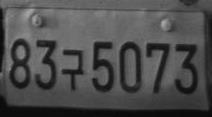0: (118, 40, 142, 94)
3: (174, 43, 199, 95), (34, 39, 57, 90)
5: (91, 40, 115, 93)
7: (145, 41, 170, 94)
8: (7, 37, 31, 89)
구: (60, 48, 84, 91)
